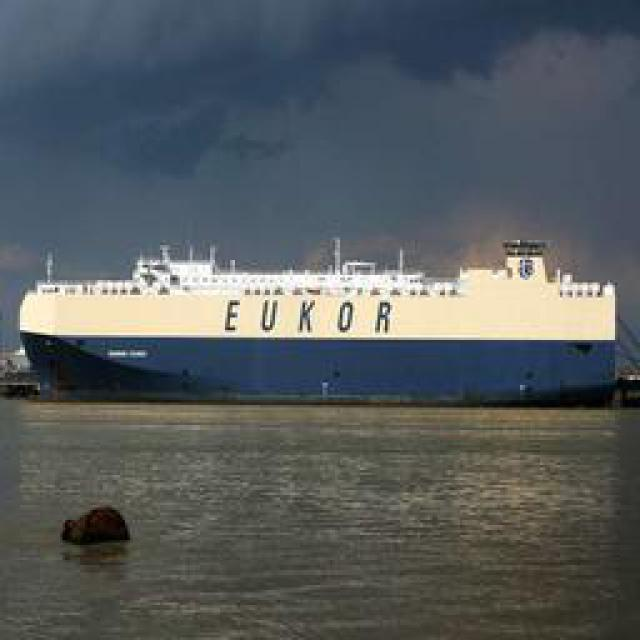Ship: (15, 240, 628, 398)
